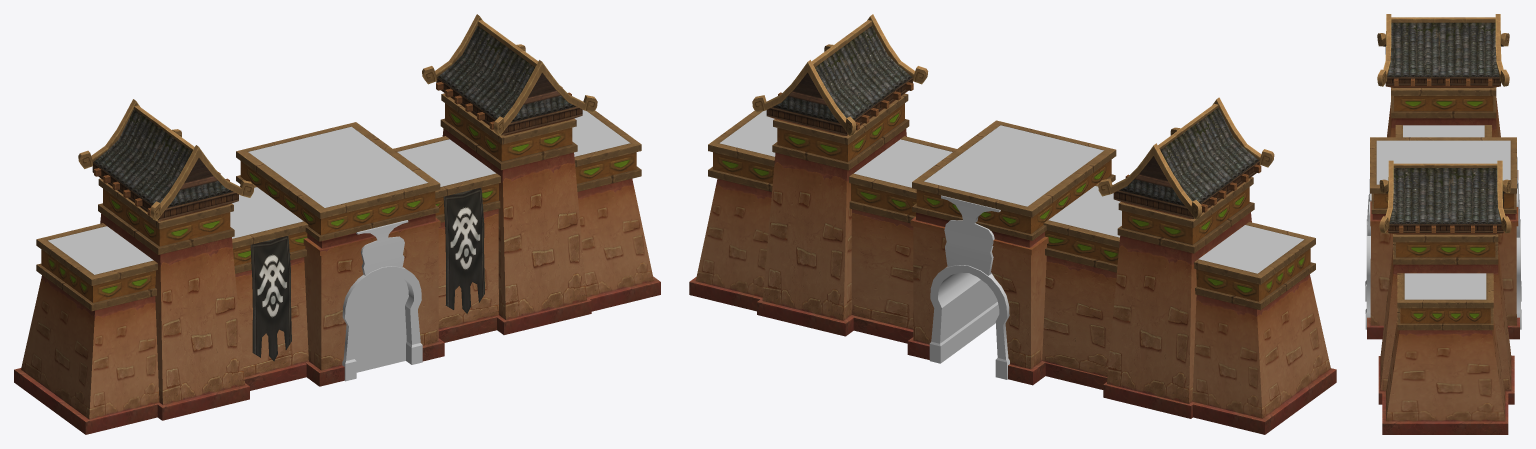
Rendered from SV_BUD_desert_guandi.FBX.
3 views of the same model, side by side, from view 1: azimuth 30°, elevation 25°; view 2: azimuth 150°, elevation 25°; view 3: azimuth 270°, elevation 25° (orthographic). The views are drawn at different scales.
Visible parts, largest first — view 1: SV_BUD_desert_guandi_qiang, SV_BUD_desert_guandi_lvding, SV_BUD_desert_guandi_ding, SV_BUD_desert_guandi_qizi, SV_BUD_desert_guandi_men, SV_BUD_desert_guandi_zhuangshi; view 2: SV_BUD_desert_guandi_qiang, SV_BUD_desert_guandi_lvding, SV_BUD_desert_guandi_ding, SV_BUD_desert_guandi_zhuangshi; view 3: SV_BUD_desert_guandi_lvding, SV_BUD_desert_guandi_qiang, SV_BUD_desert_guandi_ding, SV_BUD_desert_guandi_zhuangshi.
Boxes of the visible parts, bbox=[...] form: SV_BUD_desert_guandi_qiang: bbox=[14, 128, 660, 434]; SV_BUD_desert_guandi_lvding: bbox=[36, 14, 641, 311]; SV_BUD_desert_guandi_ding: bbox=[48, 110, 630, 381]; SV_BUD_desert_guandi_qizi: bbox=[250, 187, 484, 361]; SV_BUD_desert_guandi_men: bbox=[352, 274, 408, 372]; SV_BUD_desert_guandi_zhuangshi: bbox=[356, 220, 408, 275]; SV_BUD_desert_guandi_qiang: bbox=[689, 129, 1336, 434]; SV_BUD_desert_guandi_lvding: bbox=[708, 14, 1315, 310]; SV_BUD_desert_guandi_ding: bbox=[720, 110, 1303, 379]; SV_BUD_desert_guandi_zhuangshi: bbox=[941, 195, 1000, 275]; SV_BUD_desert_guandi_lvding: bbox=[1370, 14, 1516, 330]; SV_BUD_desert_guandi_qiang: bbox=[1367, 98, 1519, 434]; SV_BUD_desert_guandi_ding: bbox=[1365, 125, 1521, 329]; SV_BUD_desert_guandi_zhuangshi: bbox=[1367, 157, 1519, 237].
Size of the model in its own units: 25.46 by 10.94 by 6.86.
